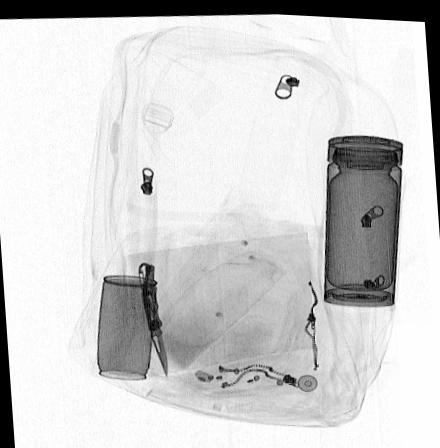Knife: (137, 260, 167, 376)
